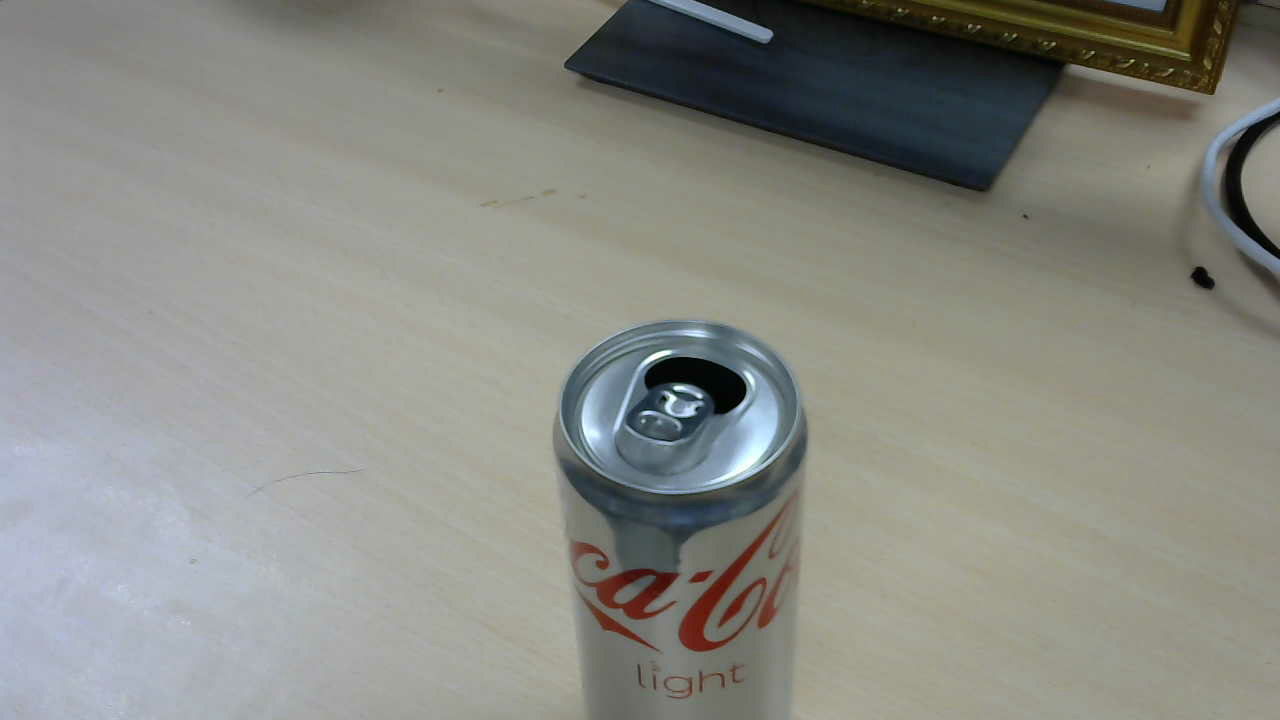Coca_Cola: (557, 321, 813, 720)
